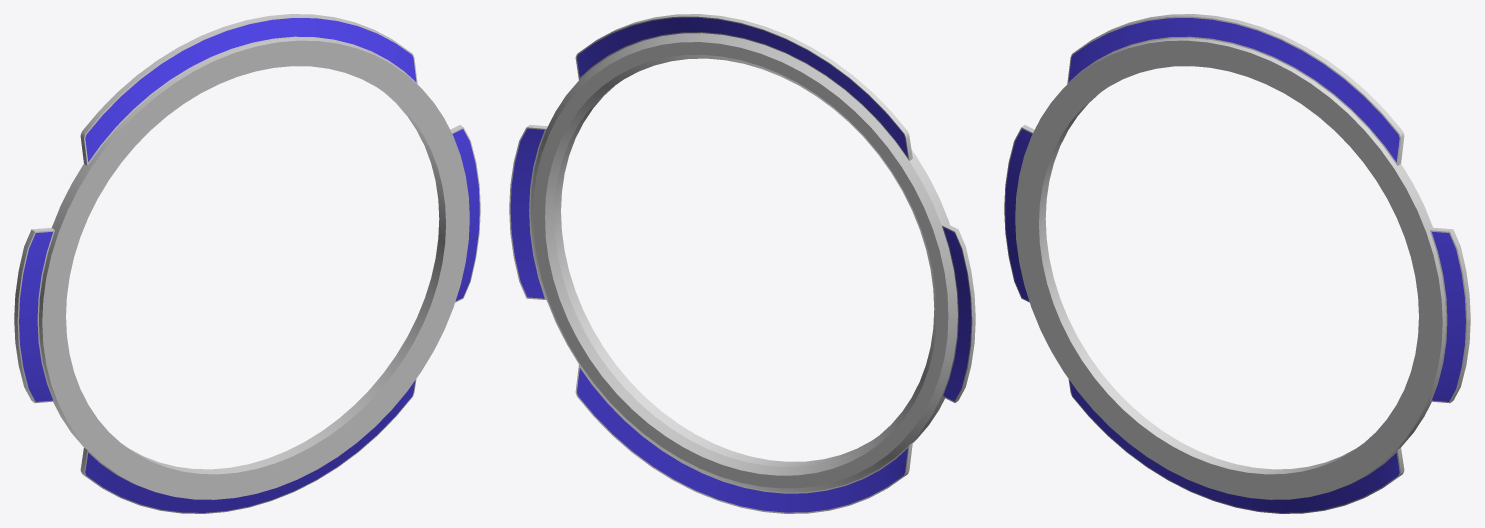
The model's file is checkpoint.FBX.
3 views of the same model, side by side, from view 1: azimuth 30°, elevation 25°; view 2: azimuth 150°, elevation 25°; view 3: azimuth 330°, elevation 25° (orthographic).
Visible parts, largest first — view 1: Checkpoint; view 2: Checkpoint; view 3: Checkpoint.
Boxes of the visible parts, x1,y1,x2,y2 form: Checkpoint: [14, 14, 480, 513]; Checkpoint: [509, 14, 975, 513]; Checkpoint: [1004, 14, 1470, 513].
Size of the model in its own units: 19498 by 19500 by 750.
